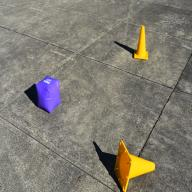cone: (114, 140, 155, 192), (134, 26, 148, 60)
cube: (35, 75, 61, 113)
